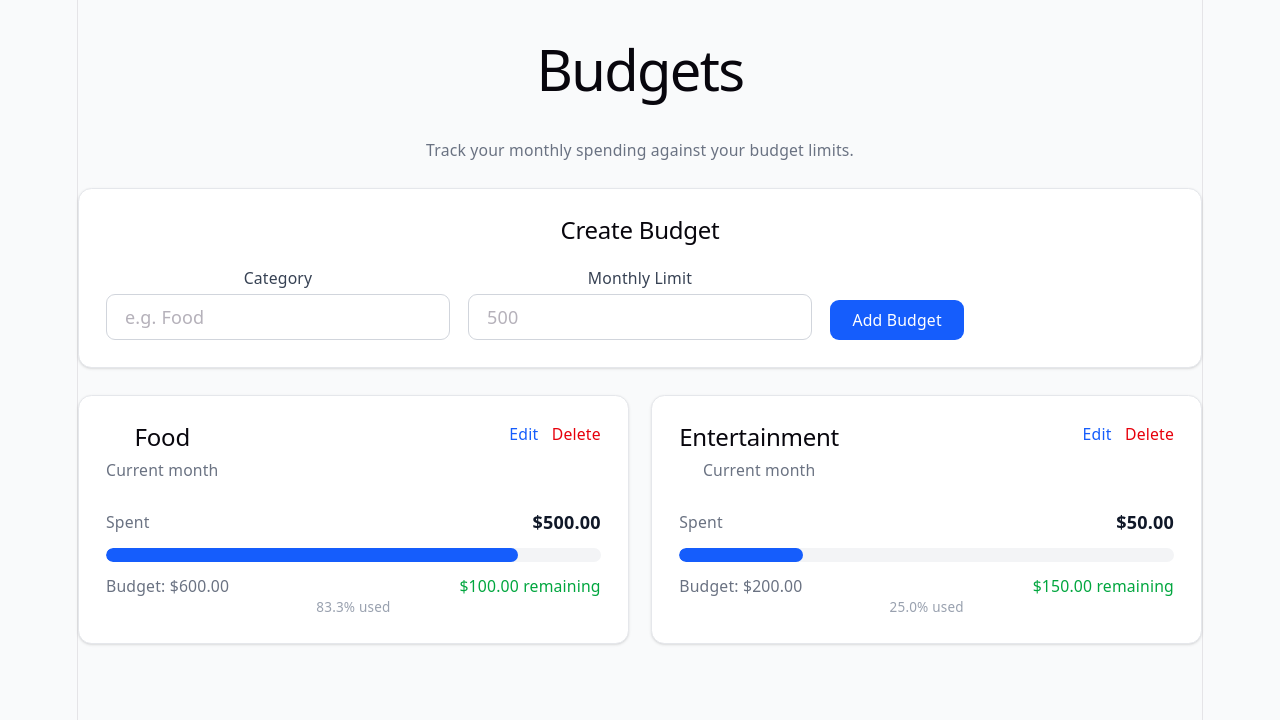
Scenario: BudgetsPage › adds a budget successfully
Type "Transportation" into the field with placeholder "e.g. Food" at (278, 317), box [106,294,450,340]
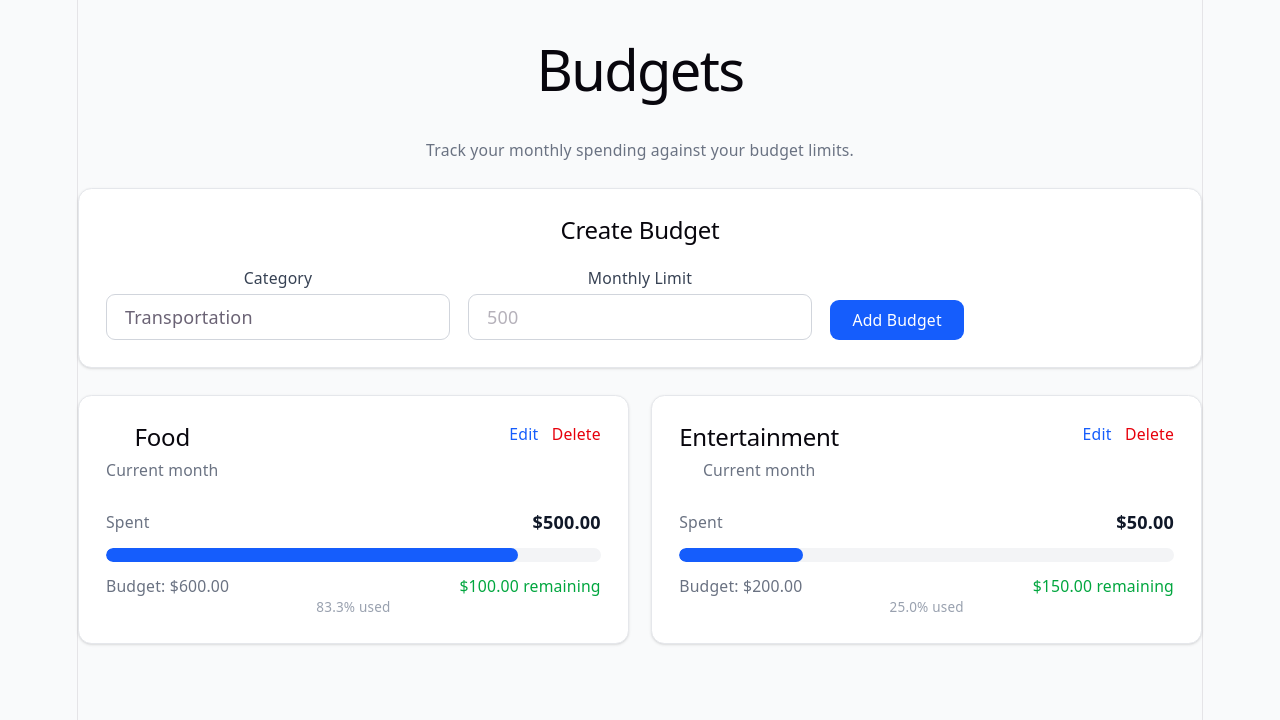
Type "300" into the number field with placeholder "500" at (640, 317), box [468,294,812,340]
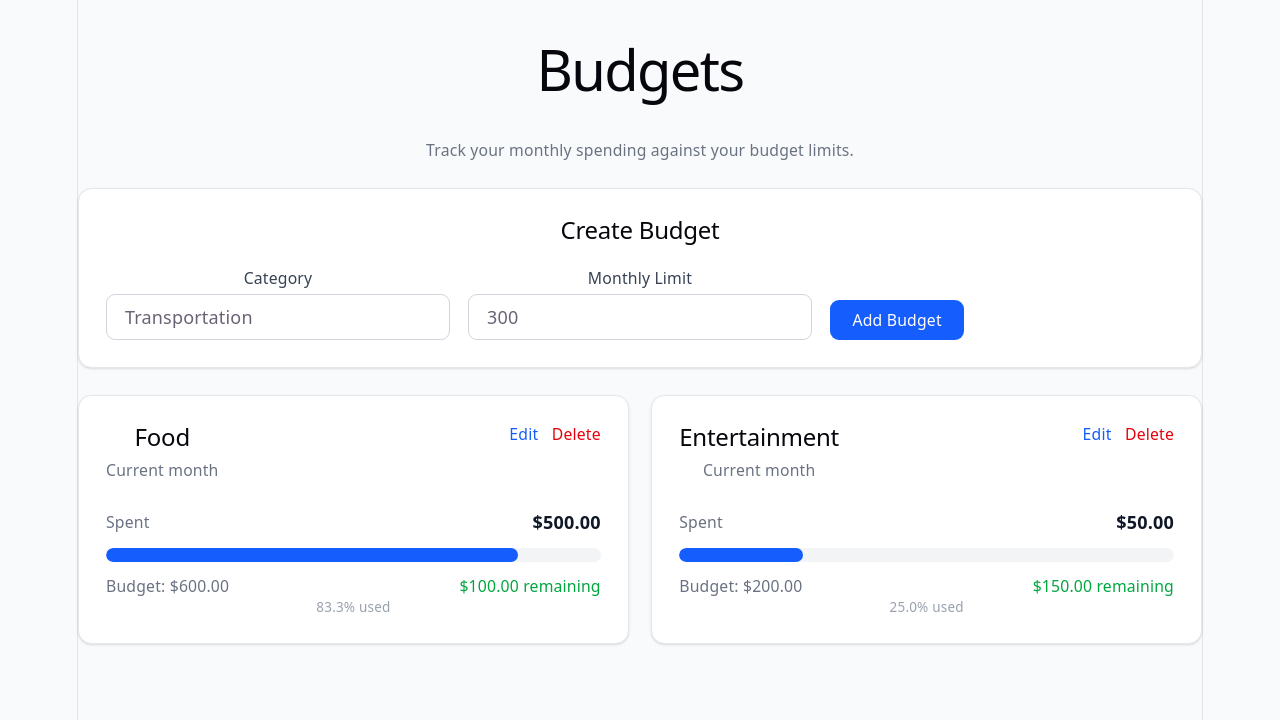
Click the button "Add Budget" at (897, 320), box [830,300,964,340]
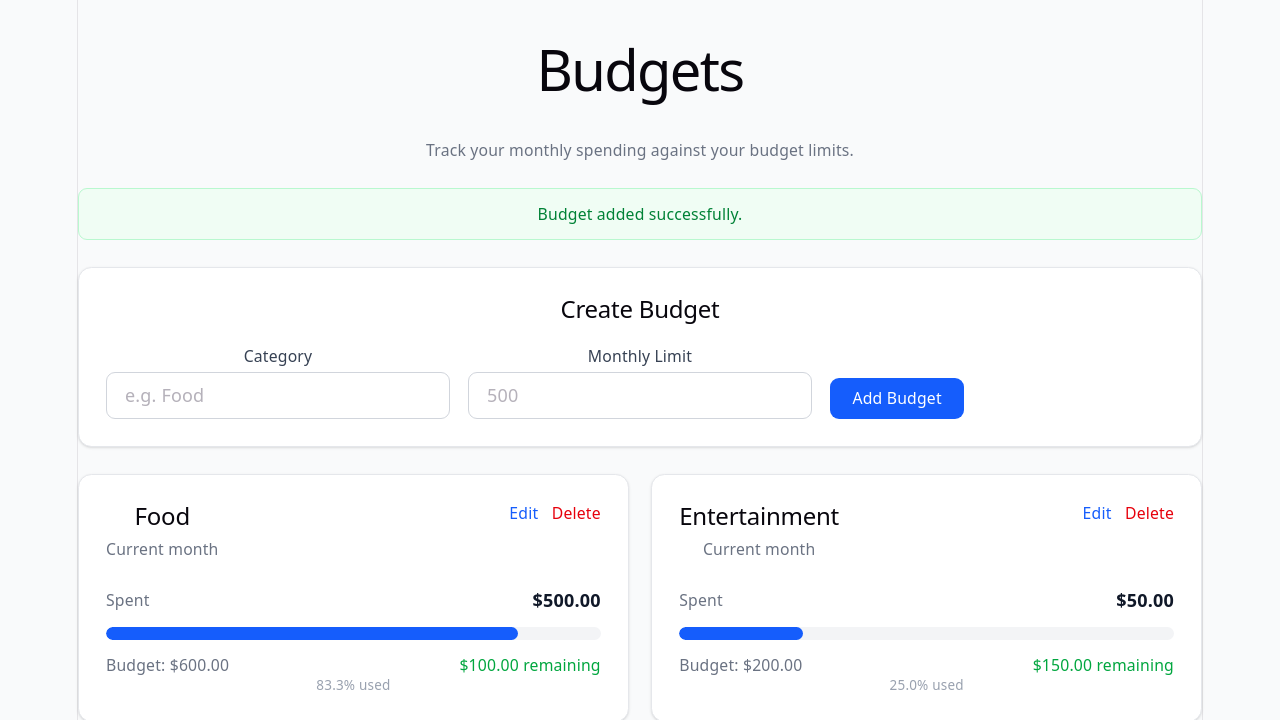
expect the message reads "Budget added successfully.": met, box [538,203,742,225]
